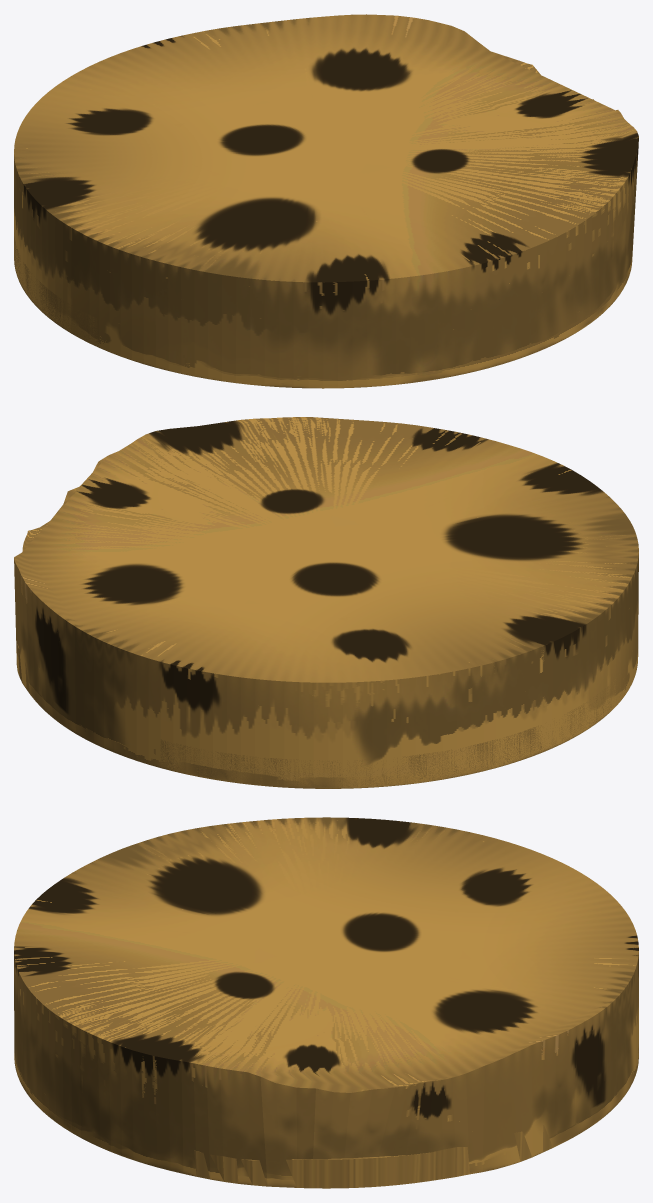
File: cookie.glb
3 renders of one model, top to bottom at view 1: azimuth 30°, elevation 25°; view 2: azimuth 150°, elevation 25°; view 3: azimuth 270°, elevation 25°, orthographic.
Parts seen in each view (by area): view 1: Cylinder; view 2: Cylinder; view 3: Cylinder.
Part boxes in pixels (left/top/right/bottom): Cylinder: left=14, top=14, right=638, bottom=388; Cylinder: left=14, top=417, right=638, bottom=788; Cylinder: left=14, top=817, right=638, bottom=1188.
Bounding box in the file's own units: 31.45 × 6.48 × 31.47.
Materials: 1 (1 with a texture image).
